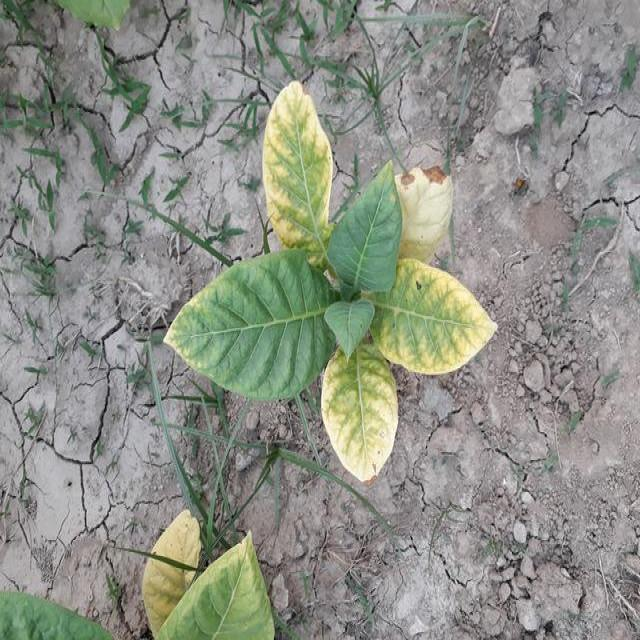crop: (174, 87, 496, 473), (146, 516, 267, 640), (0, 580, 111, 640)
